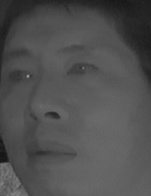eye: (2, 64, 35, 89), (65, 58, 99, 81)
mouth: (25, 137, 77, 170)
